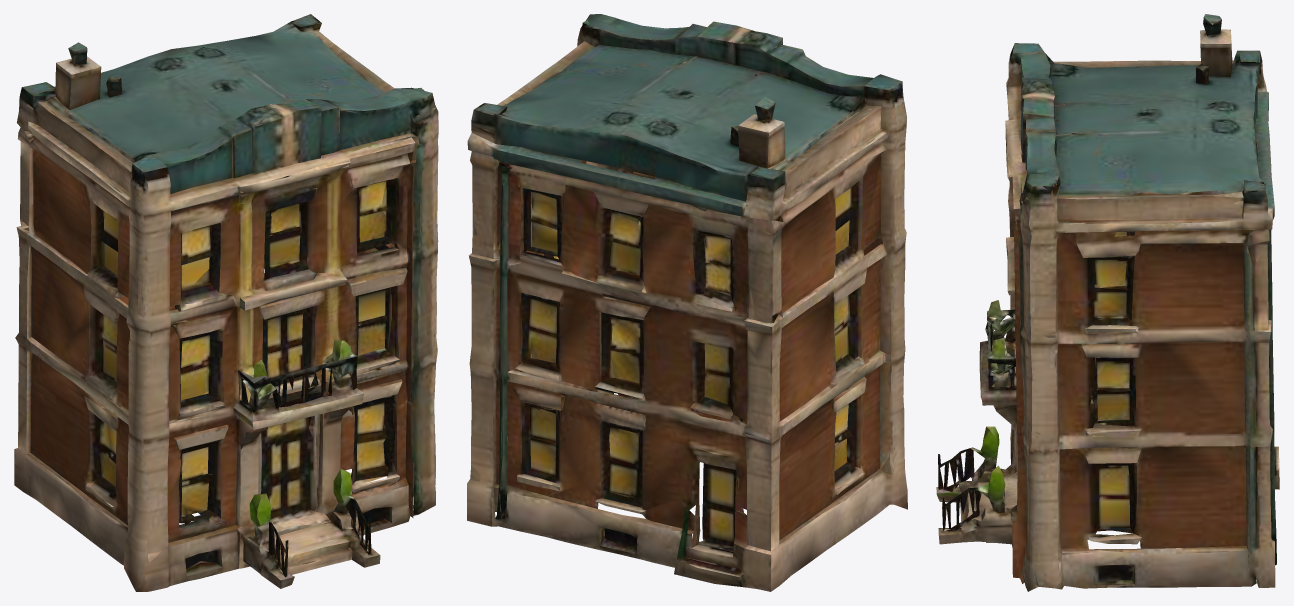
3 views of the same model, side by side, from view 1: azimuth 30°, elevation 25°; view 2: azimuth 150°, elevation 25°; view 3: azimuth 270°, elevation 25° (orthographic). The views are drawn at different scales.
Parts seen in each view (by area): view 1: expansion__villa_3__neural_lod; view 2: expansion__villa_3__neural_lod; view 3: expansion__villa_3__neural_lod.
Boxes of the visible parts, box(x1,y1,x2,y2) form: expansion__villa_3__neural_lod: box(14, 14, 438, 591); expansion__villa_3__neural_lod: box(467, 14, 907, 591); expansion__villa_3__neural_lod: box(936, 14, 1279, 591).
Bounding box in the file's own units: 0.6988 × 0.9998 × 0.6786.
Materials: 1 (1 with a texture image).
